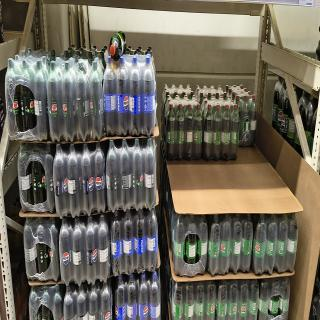beverage: (61, 60, 79, 144), (32, 58, 49, 144), (47, 59, 63, 144), (75, 60, 91, 142), (20, 56, 35, 140), (89, 54, 104, 138), (5, 56, 20, 138), (104, 51, 118, 136), (70, 214, 86, 287), (55, 215, 71, 287), (116, 58, 129, 140), (95, 215, 110, 285), (121, 205, 136, 273), (110, 209, 125, 275), (84, 215, 98, 284), (130, 57, 142, 137), (146, 195, 158, 273), (134, 199, 146, 274), (185, 214, 196, 276), (220, 213, 230, 274), (230, 212, 240, 272), (176, 212, 185, 278), (150, 269, 161, 320), (197, 217, 206, 278), (137, 271, 148, 320), (125, 271, 136, 320), (115, 271, 126, 320), (210, 216, 219, 275), (167, 102, 176, 160), (184, 102, 193, 160), (176, 99, 184, 163), (108, 31, 122, 60)
